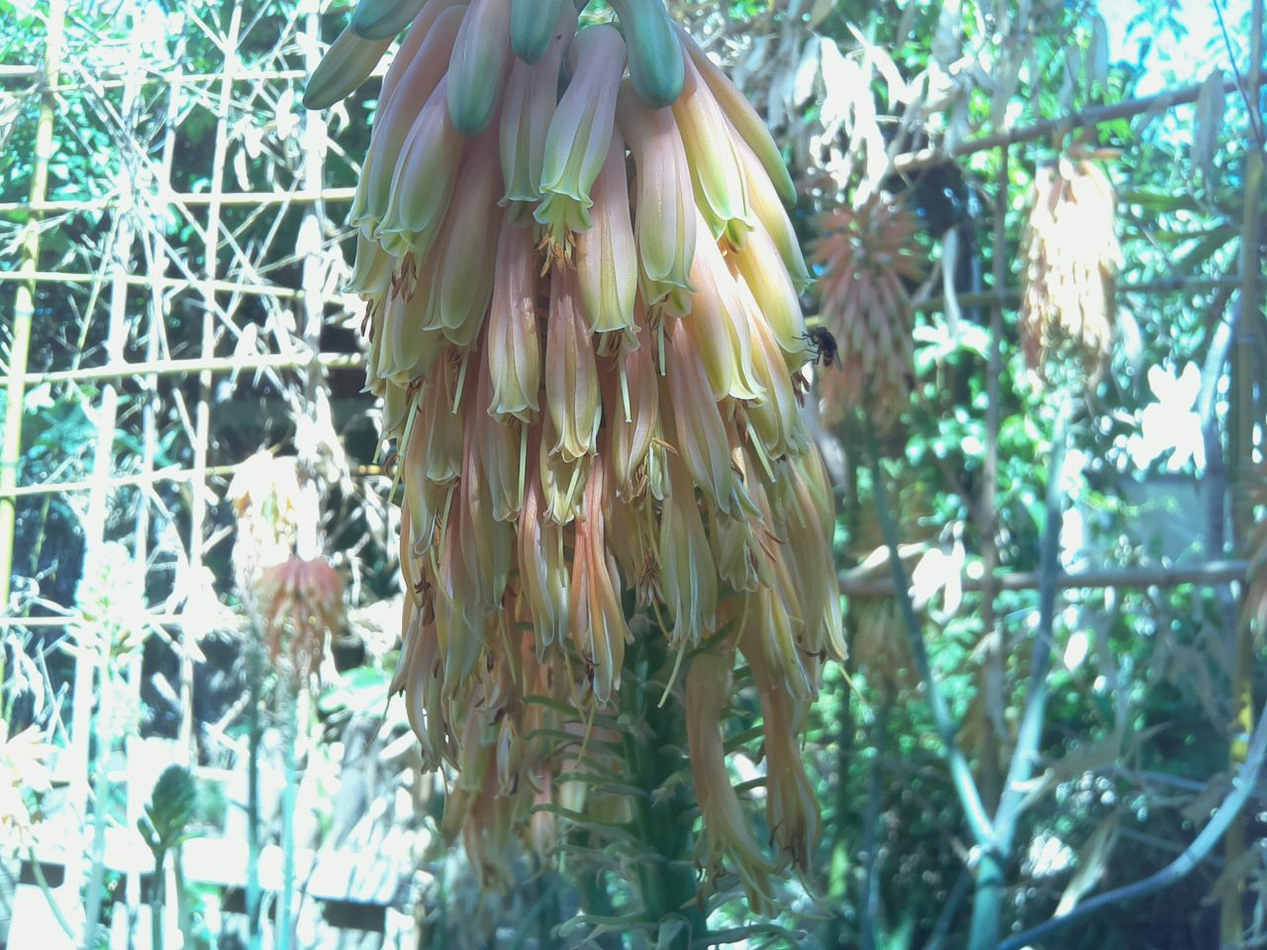Fly: (788, 320, 854, 385)
